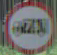Heavy Vehicles: (3, 3, 53, 52)
